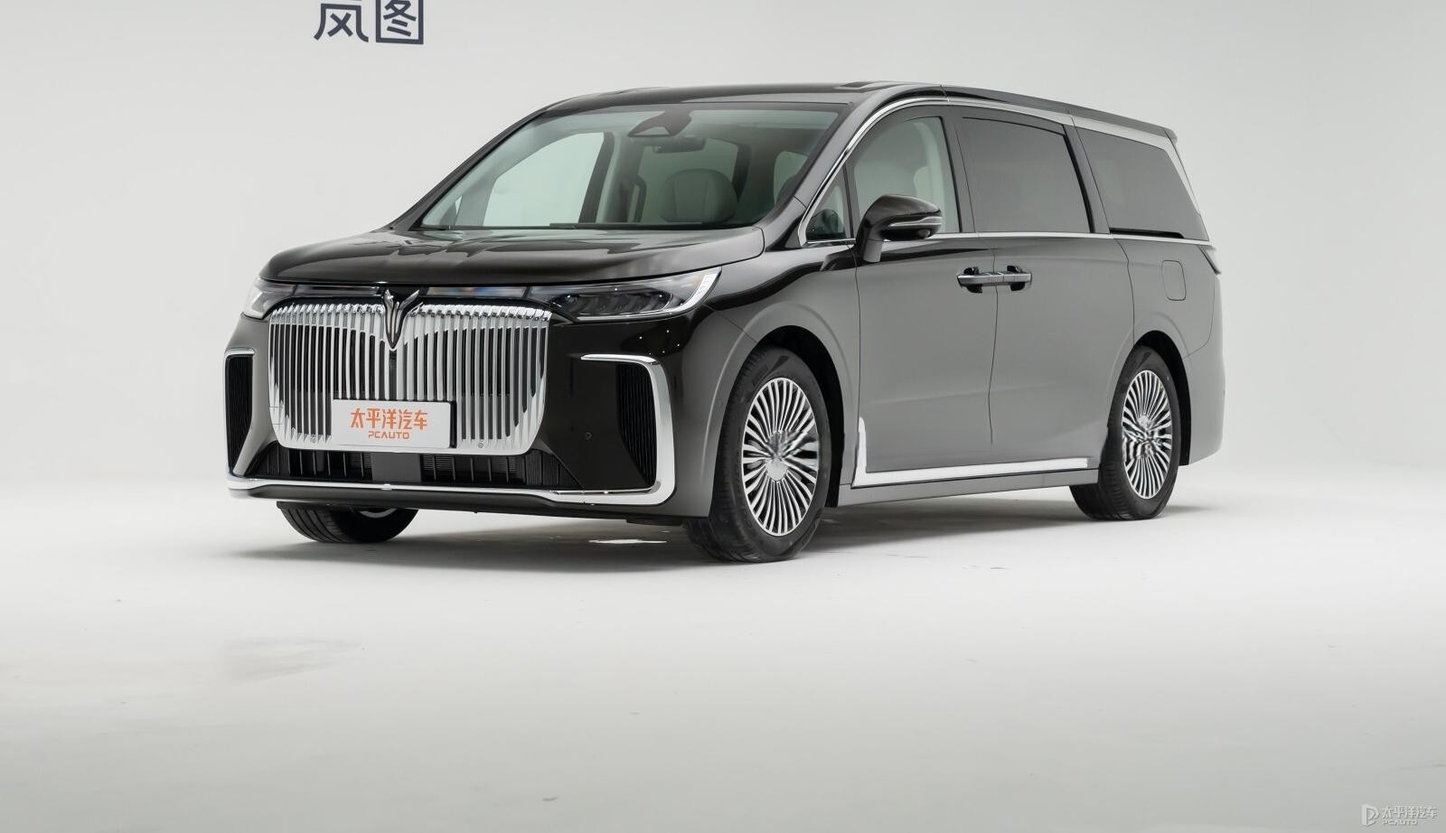VOYAH: (384, 290, 419, 342)
